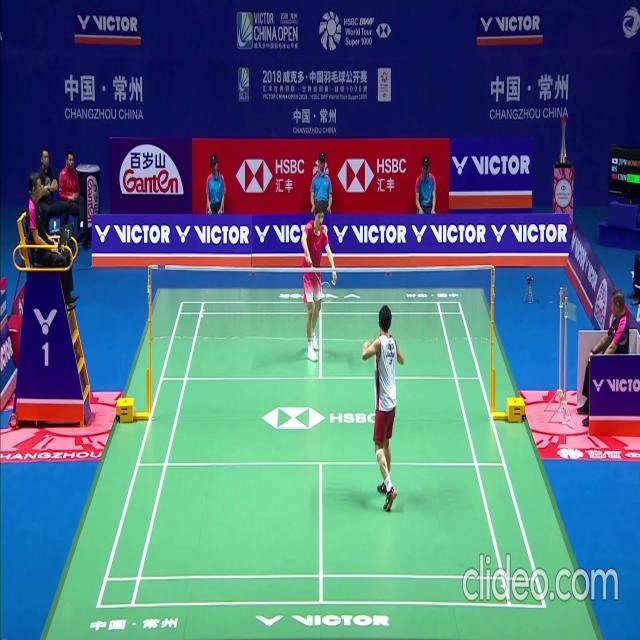Shuttlecock: (330, 278, 334, 286)
